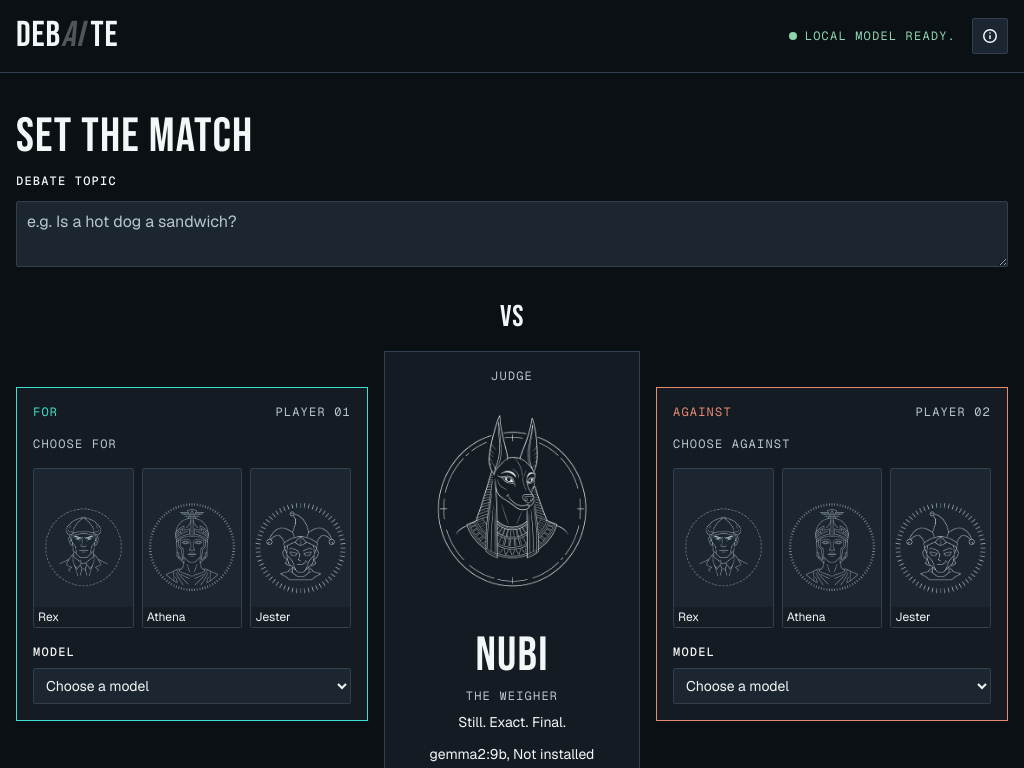
home page shows DebAIte
Expected: the heading "DebAIte" is shown, [16,16,118,56]
Expected: the text "Local model ready." is shown, [789,28,956,44]
Click the button named "How to play" at x=990, y=36, box [972,18,1008,54]
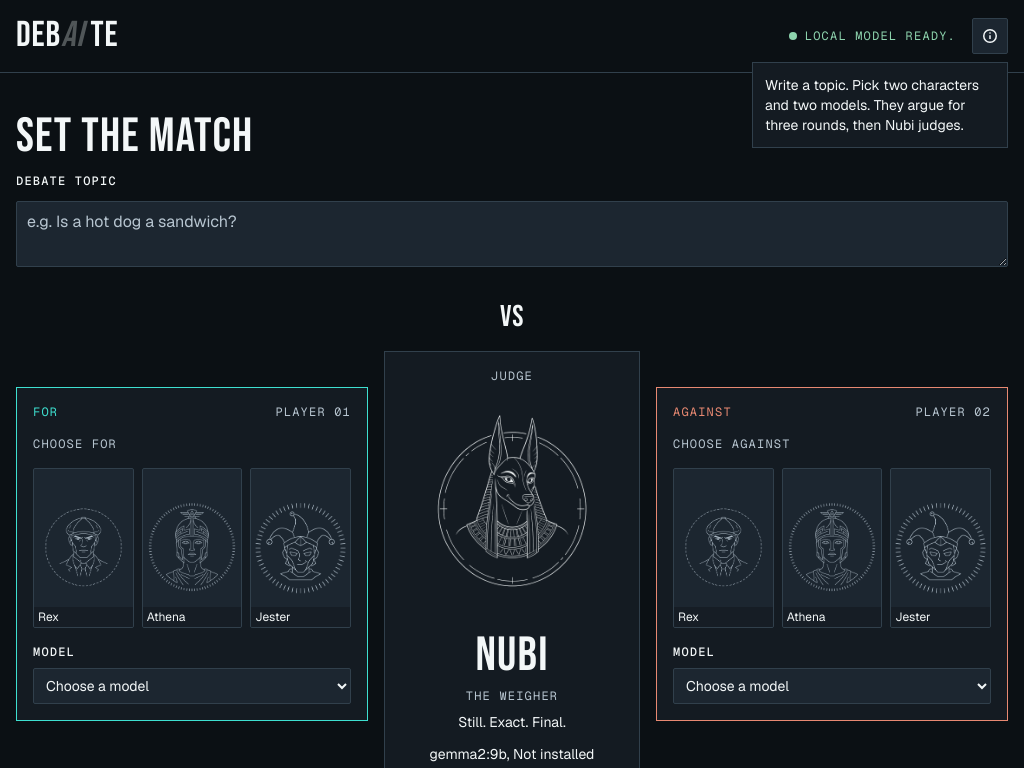
Now the text "Write a topic. Pick two characters and two models. They argue for three rounds, then Nubi judges." is shown, box [765,76,979,134]
